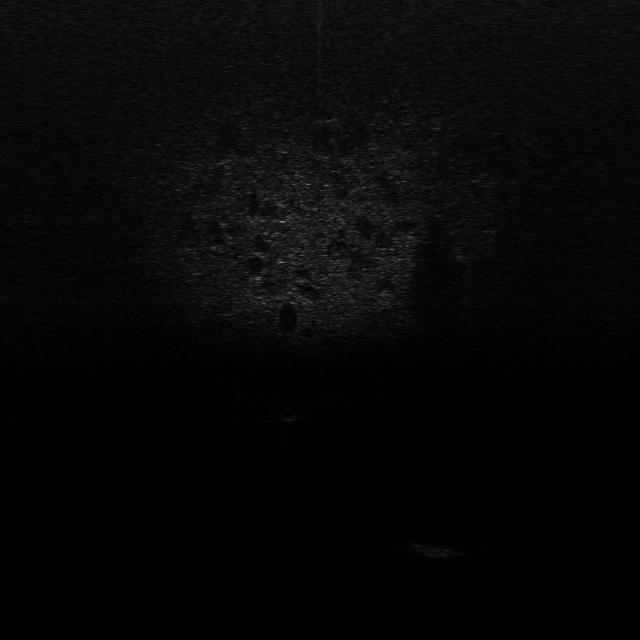ball: (273, 401, 307, 424)
metal bucket: (404, 536, 470, 562)
